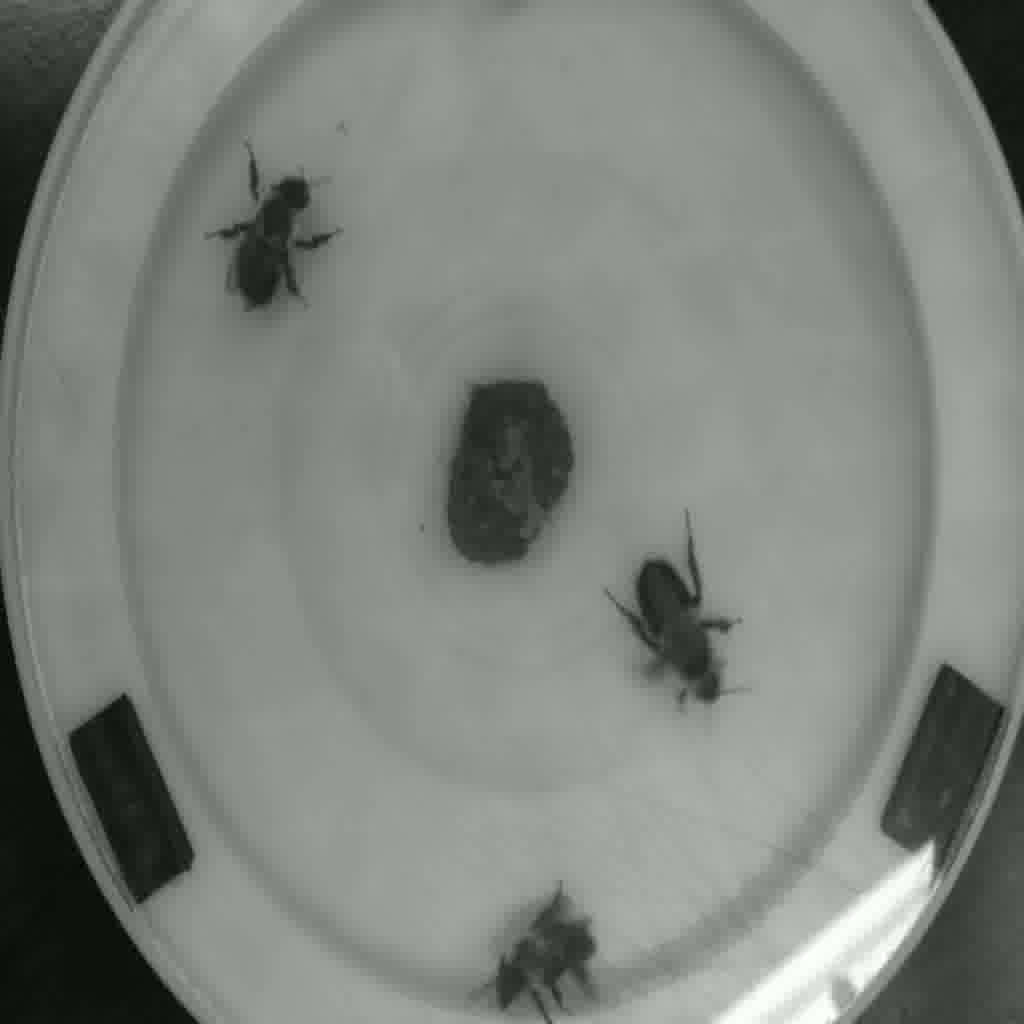bee: (604, 514, 748, 729), (210, 142, 348, 323), (464, 880, 613, 1024)
